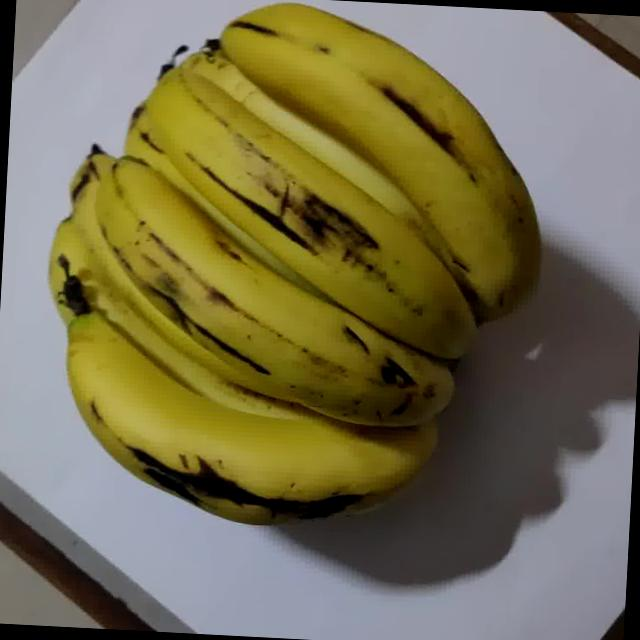banana_pacche: (0, 0, 616, 615)
